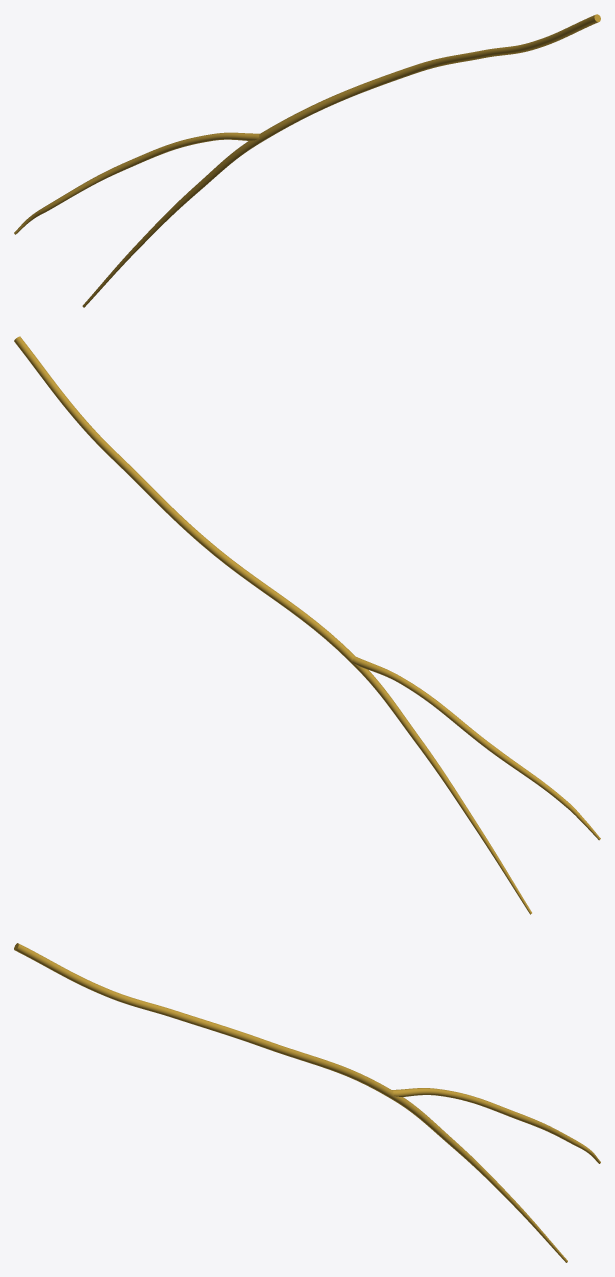
The picture shows the model from 3 angles, top to bottom: view 1: azimuth 30°, elevation 25°; view 2: azimuth 210°, elevation 25°; view 3: azimuth 270°, elevation 25°; orthographic projection.
Visible parts, largest first — view 1: 左侧下颌舌骨肌神经; view 2: 左侧下颌舌骨肌神经; view 3: 左侧下颌舌骨肌神经.
Part boxes in pixels (x1,y1,x2,y2): 左侧下颌舌骨肌神经: (14,14,600,307); 左侧下颌舌骨肌神经: (14,336,600,914); 左侧下颌舌骨肌神经: (14,943,600,1262).
Bounding box in the file's own units: 0.037 × 0.0521 × 0.0637.
